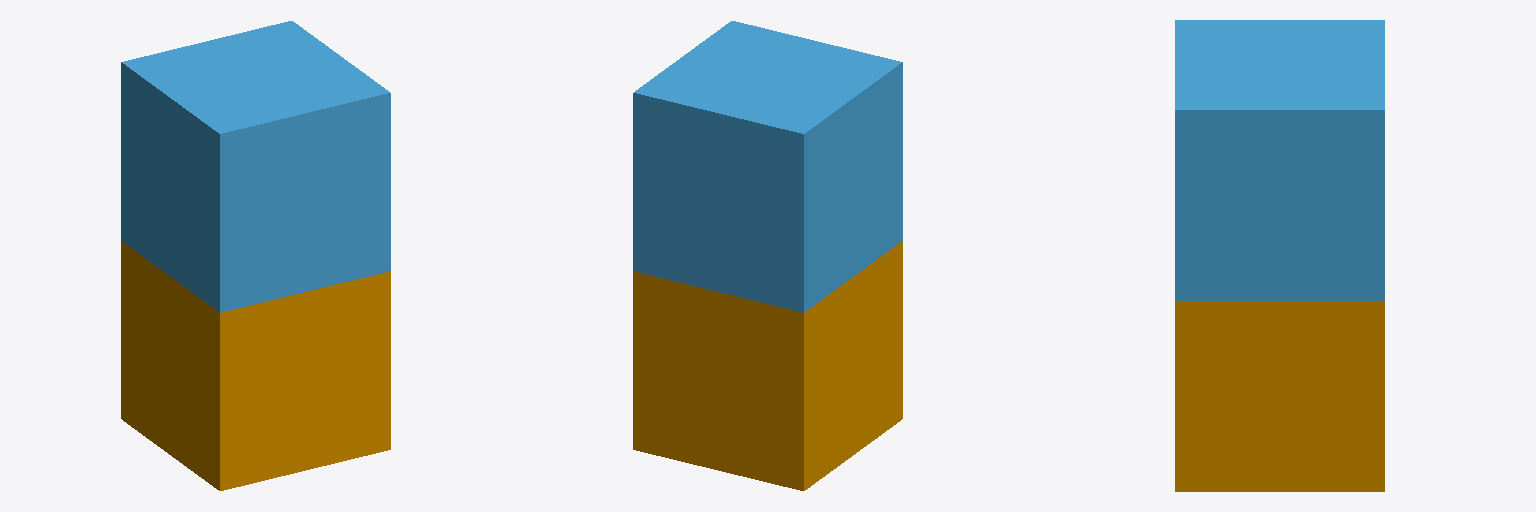
The robot description file, URDF, robot "origins":
<?xml version="1.0"?>
<robot name="origins">

    <link name="base">
        <inertial>
            <mass value="1."/>
        </inertial>
        <visual>
            <geometry>
                <box size="0.5 0.5 0.5"/>
            </geometry>
        </visual>
    </link>

    <link name="l1">
        <inertial>
            <mass value="1."/>
        </inertial>
        <visual>
            <geometry>
                <box size="0.5 0.5 0.5"/>
            </geometry>
        </visual>
    </link>

    <joint name="j" type="fixed">
        <parent link="base"/>
        <child link="l1"/>
        <origin xyz="0 0 0.5" rpy="0 0 1.5708"/>
    </joint>

</robot>

--- Facts derived from the render (not from the file) ---
The picture shows the robot from 3 angles, left to right: view 1: azimuth 30°, elevation 25°; view 2: azimuth 150°, elevation 25°; view 3: azimuth 270°, elevation 25°; orthographic projection.
Robot: origins — 2 links, 1 joints (1 fixed); root link base; default pose: every joint at zero.
Visible links, largest first — view 1: l1, base; view 2: l1, base; view 3: l1, base.
Boxes of the visible links, x1,y1,x2,y2 form: l1: (121,21,390,312); base: (121,241,390,490); l1: (633,21,902,312); base: (633,241,902,490); l1: (1175,20,1384,300); base: (1175,301,1384,491).
Size in the robot's own frame: 0.5 by 0.5 by 1 metres.
Geometry: primitives only (box / cylinder / sphere), no mesh files.